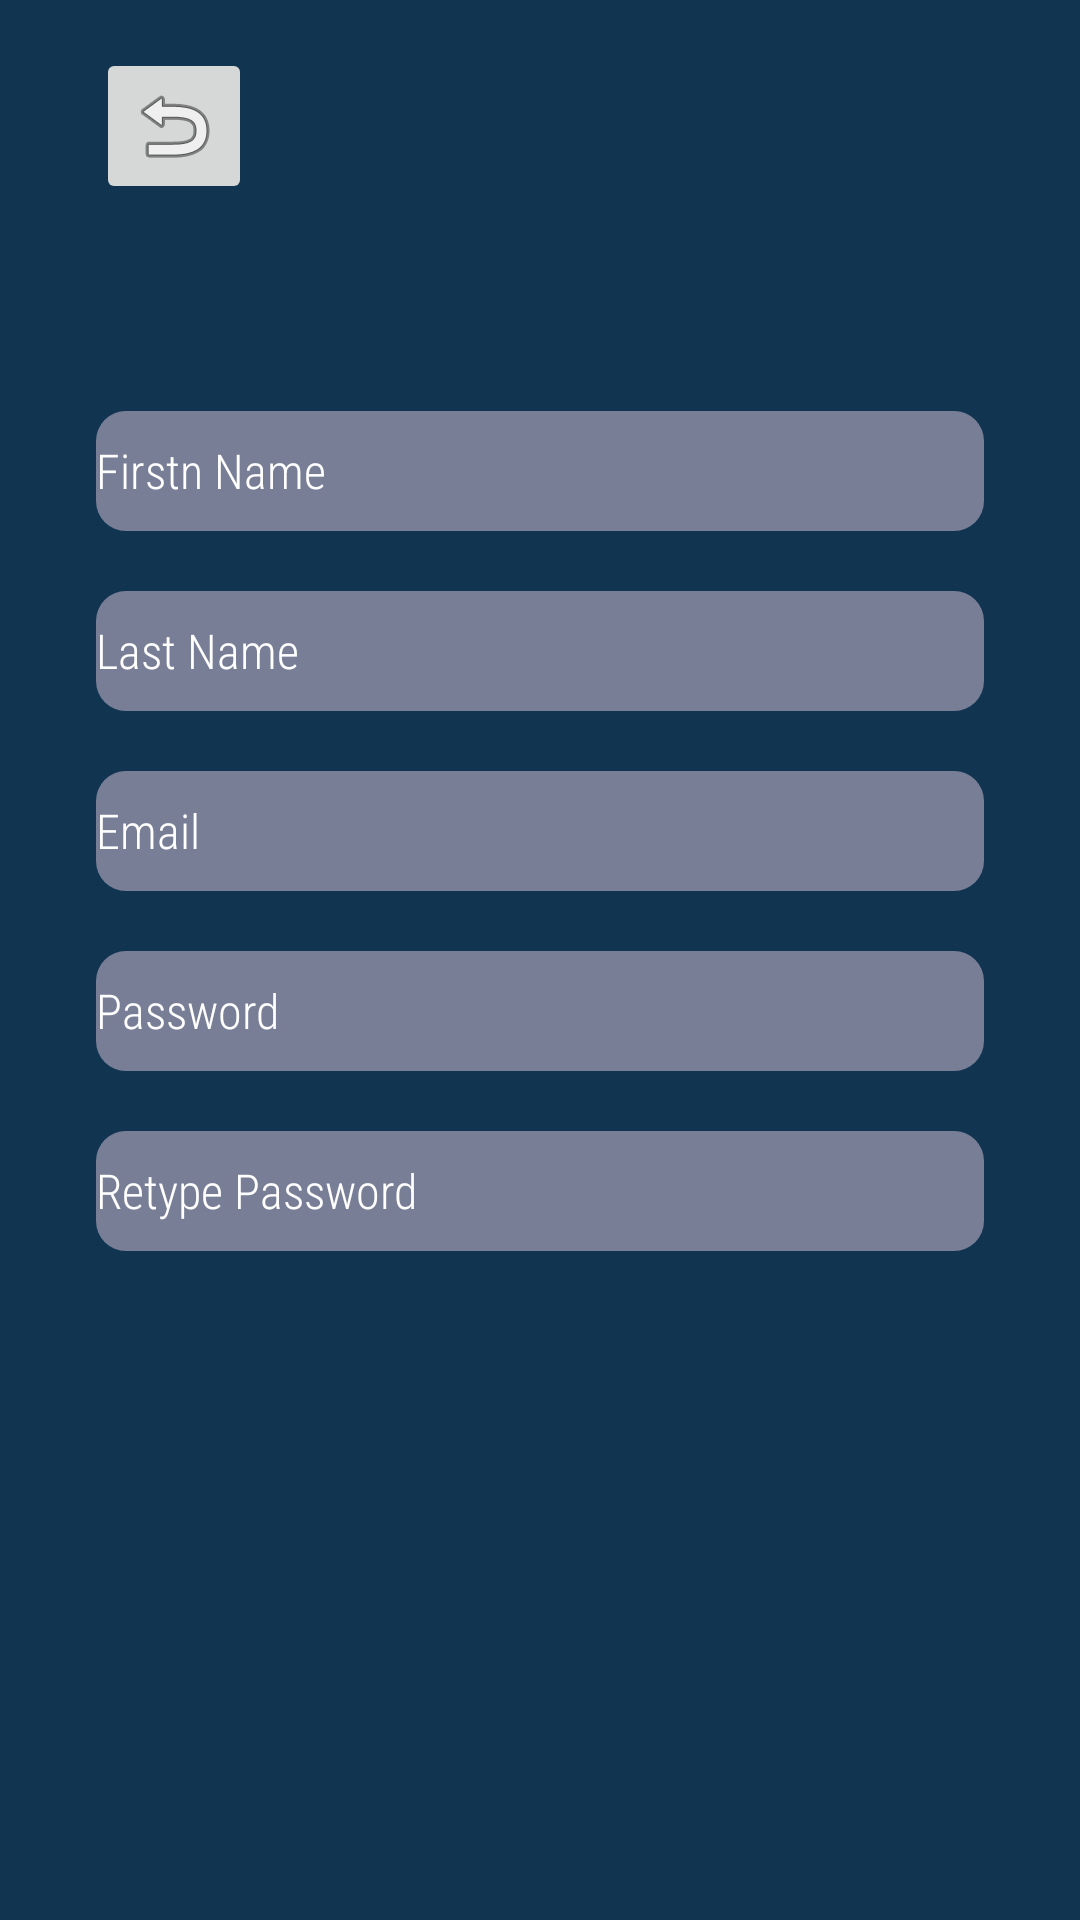

Icon bounding boxes for this 1080*1920 phone screenshot, format (x1, y1, x2, y2):
revert: (108, 66, 240, 186)
